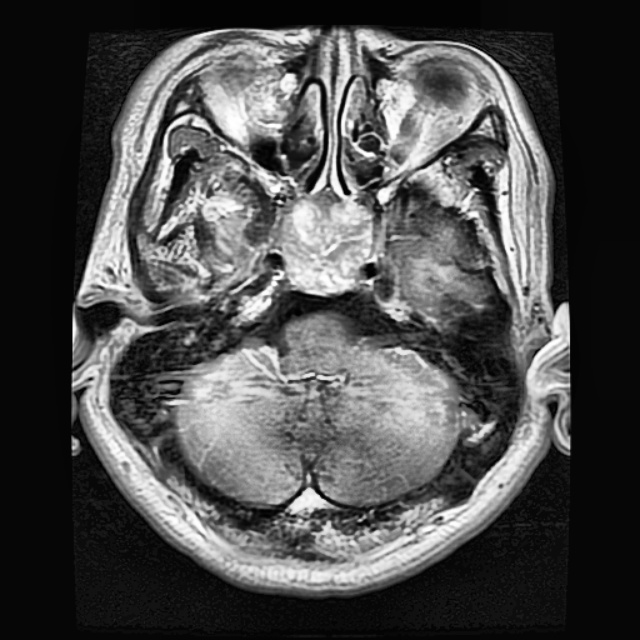Pituitary: (279, 199, 372, 293)
